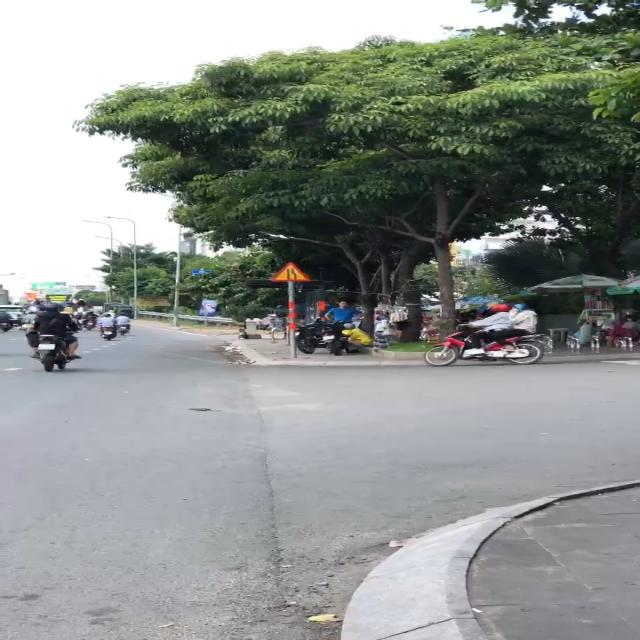Bien bao duong bi thu hep: (271, 259, 312, 285)
